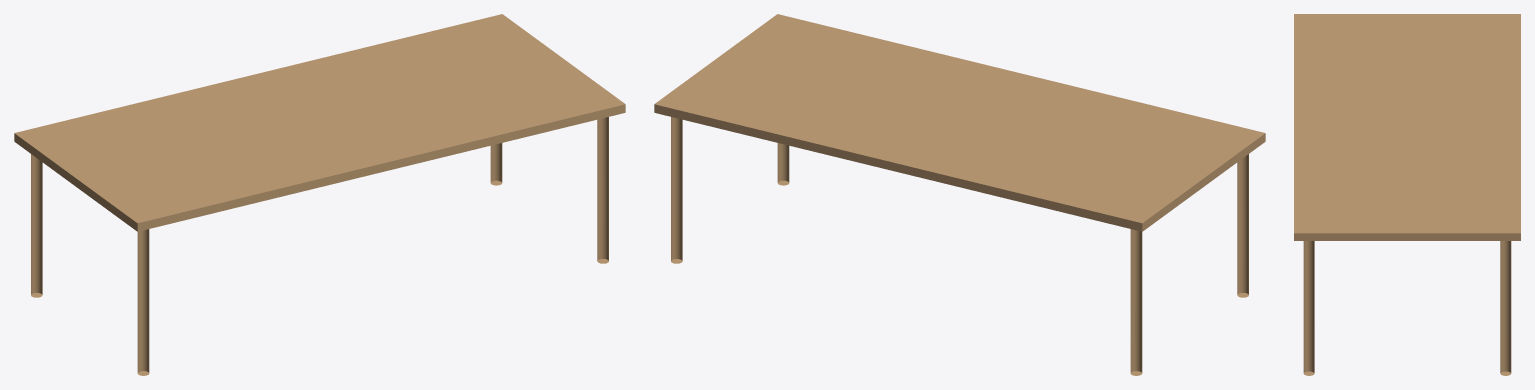
The model's file is dining_table_10.glb.
3 renders of one model, left to right at view 1: azimuth 30°, elevation 25°; view 2: azimuth 150°, elevation 25°; view 3: azimuth 270°, elevation 25°, orthographic. The views are drawn at different scales.
Size of the model in its own units: 2.4 by 0.75 by 1.05.
